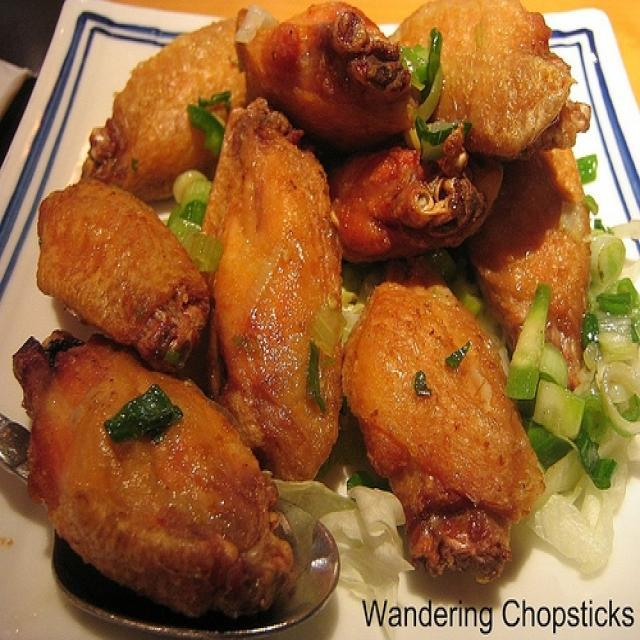Deep fried chicken wing: (40, 29, 570, 583)
